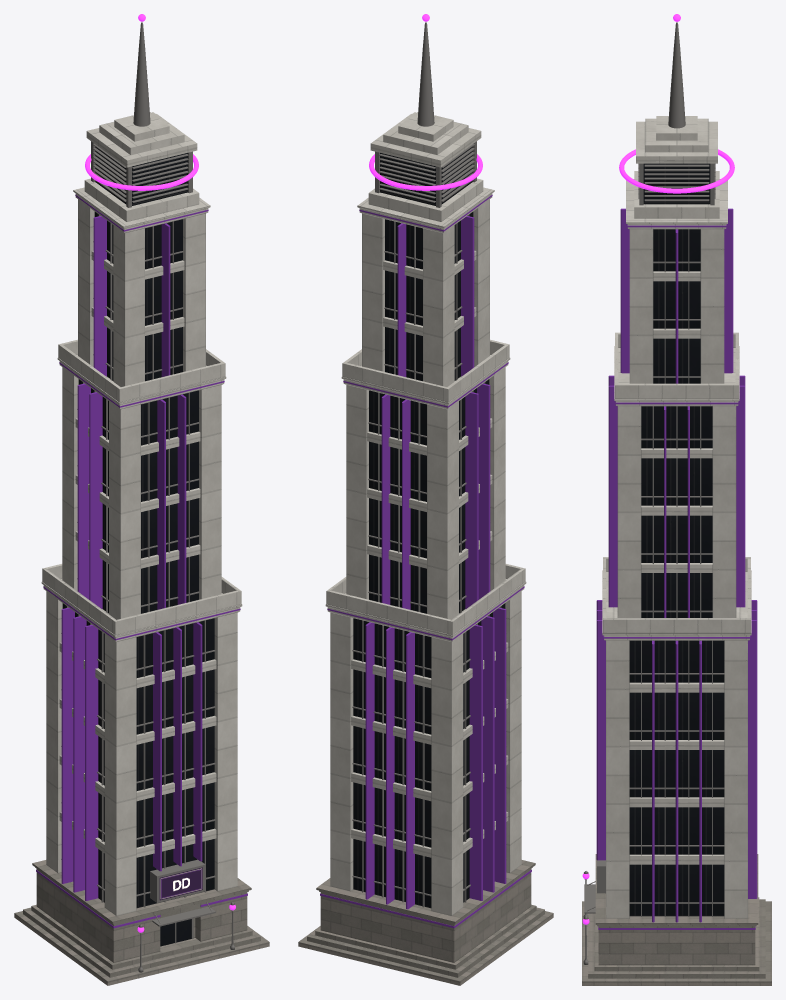
Rendered from s07-divine-dao.glb.
The picture shows the model from 3 angles, left to right: view 1: azimuth 30°, elevation 25°; view 2: azimuth 150°, elevation 25°; view 3: azimuth 270°, elevation 25°; orthographic projection.
Visible parts, largest first — view 1: Landmark · Divine.DAO (Series 7); view 2: Landmark · Divine.DAO (Series 7); view 3: Landmark · Divine.DAO (Series 7).
Boxes of the visible parts, x1,y1,x2,y2 form: Landmark · Divine.DAO (Series 7): (14, 14, 269, 985); Landmark · Divine.DAO (Series 7): (298, 14, 553, 985); Landmark · Divine.DAO (Series 7): (582, 14, 771, 985).
Size of the model in its own units: 12 by 65 by 12.
7 materials, 4 textured.
